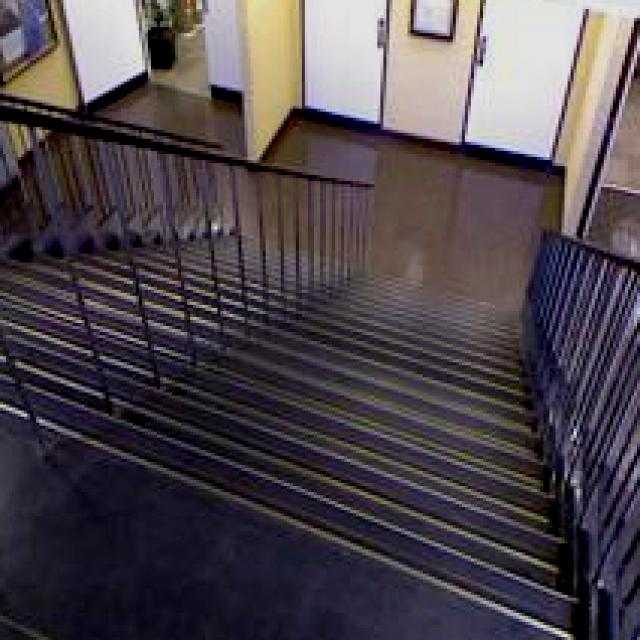downstair: (140, 387, 523, 640)
